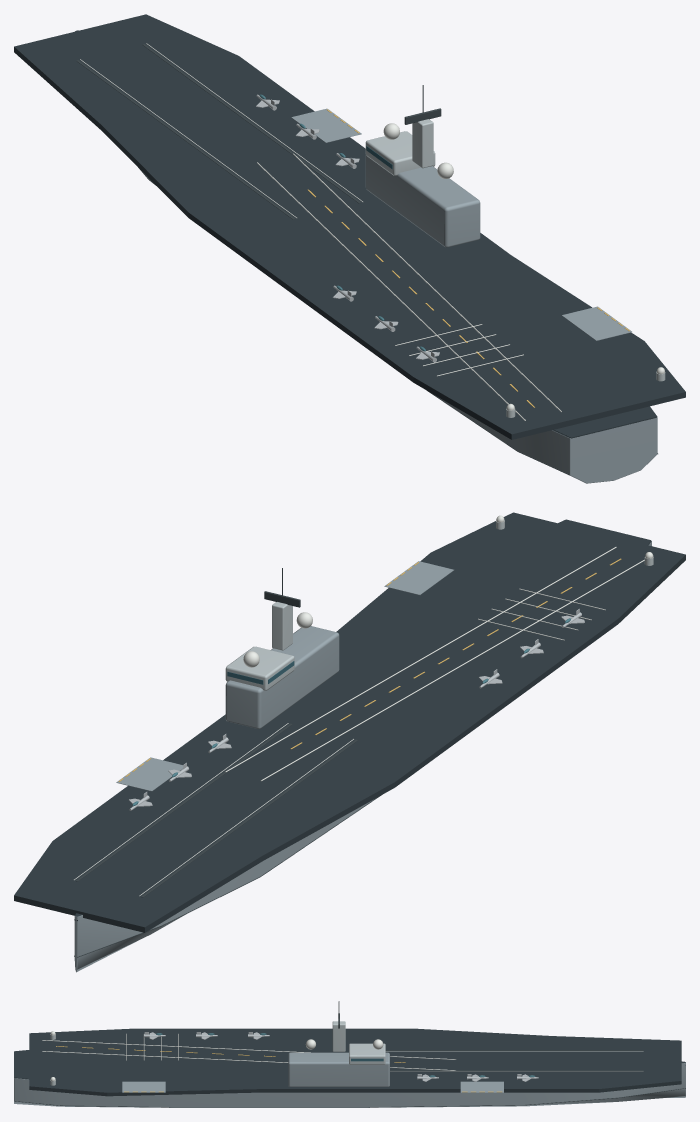
The model's file is generic-carrier.glb.
3 renders of one model, top to bottom at view 1: azimuth 30°, elevation 25°; view 2: azimuth 150°, elevation 25°; view 3: azimuth 270°, elevation 25°, orthographic. The views are drawn at different scales.
Visible parts, largest first — view 1: carrier_FlightDeck, carrier_Hull, carrier_Island, carrier_IslandBridge, carrier_DeckElevator, carrier_MainDeck, carrier_DeckElevator.001, carrier_IslandMast, carrier_CatapultTrack, carrier_CatapultTrack.001; view 2: carrier_FlightDeck, carrier_Island, carrier_Hull, carrier_IslandBridge, carrier_DeckElevator, carrier_DeckElevator.001, carrier_IslandMast, carrier_LandingLane.001, carrier_LandingLane, carrier_CatapultTrack, carrier_CatapultTrack.001; view 3: carrier_FlightDeck, carrier_Hull, carrier_Island, carrier_IslandBridge, carrier_DeckElevator, carrier_DeckElevator.001, carrier_MainDeck, carrier_LandingLane, carrier_IslandMast, carrier_LandingLane.001, carrier_CatapultTrack, carrier_CatapultMarking (+2 smaller).
Boxes of the visible parts, left/top/right/bottom form: carrier_FlightDeck: left=14, top=14, right=685, bottom=439; carrier_Hull: left=75, top=30, right=657, bottom=483; carrier_Island: left=365, top=154, right=480, bottom=247; carrier_IslandBridge: left=365, top=131, right=435, bottom=175; carrier_DeckElevator: left=562, top=306, right=631, bottom=340; carrier_MainDeck: left=554, top=406, right=656, bottom=438; carrier_DeckElevator.001: left=291, top=108, right=361, bottom=142; carrier_IslandMast: left=412, top=119, right=433, bottom=168; carrier_CatapultTrack: left=76, top=60, right=294, bottom=219; carrier_CatapultTrack.001: left=142, top=44, right=361, bottom=203; carrier_FlightDeck: left=14, top=512, right=685, bottom=932; carrier_Island: left=225, top=626, right=339, bottom=728; carrier_Hull: left=74, top=541, right=651, bottom=972; carrier_IslandBridge: left=225, top=646, right=294, bottom=690; carrier_DeckElevator: left=384, top=561, right=453, bottom=595; carrier_DeckElevator.001: left=116, top=757, right=183, bottom=791; carrier_IslandMast: left=272, top=602, right=292, bottom=650; carrier_LandingLane.001: left=225, top=547, right=616, bottom=772; carrier_LandingLane: left=260, top=559, right=644, bottom=781; carrier_CatapultTrack: left=141, top=739, right=358, bottom=897; carrier_CatapultTrack.001: left=76, top=723, right=292, bottom=881; carrier_FlightDeck: left=29, top=1028, right=681, bottom=1096; carrier_Hull: left=14, top=1061, right=685, bottom=1107; carrier_Island: left=288, top=1052, right=389, bottom=1086; carrier_IslandBridge: left=349, top=1043, right=385, bottom=1064; carrier_DeckElevator: left=122, top=1081, right=165, bottom=1092; carrier_DeckElevator.001: left=460, top=1081, right=503, bottom=1092; carrier_MainDeck: left=14, top=1050, right=685, bottom=1078; carrier_LandingLane: left=42, top=1040, right=456, bottom=1059; carrier_IslandMast: left=332, top=1021, right=345, bottom=1051; carrier_LandingLane.001: left=42, top=1051, right=455, bottom=1070; carrier_CatapultTrack: left=385, top=1050, right=643, bottom=1050; carrier_CatapultMarking: left=386, top=1051, right=643, bottom=1051.
Bounding box in the file's own units: 70 × 60 × 310.
